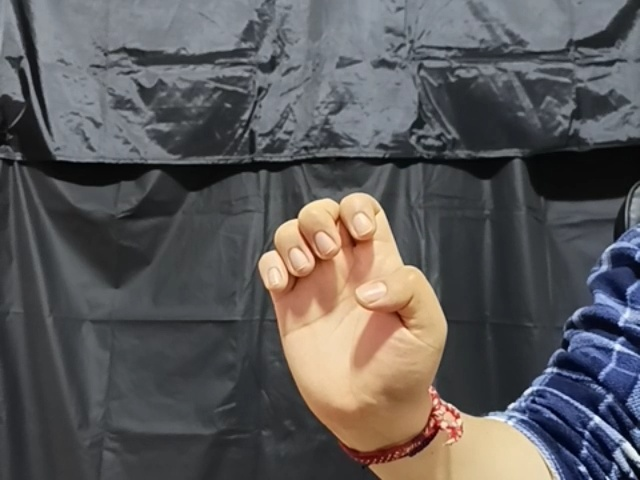E: (251, 191, 453, 438)
